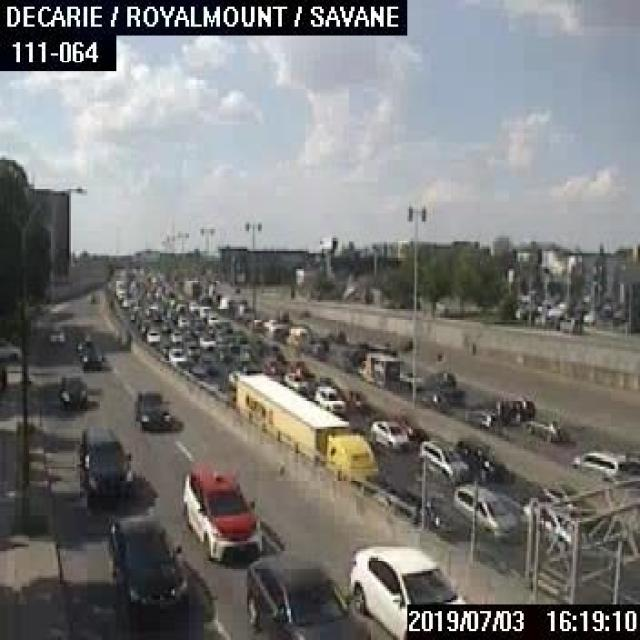vehicle: (235, 370, 383, 483), (245, 548, 369, 638), (350, 546, 469, 638), (105, 514, 188, 620), (180, 466, 262, 560), (76, 424, 129, 503), (452, 483, 518, 538), (417, 437, 465, 481), (455, 436, 504, 479), (568, 447, 628, 478), (133, 390, 174, 429), (360, 351, 399, 388), (368, 418, 408, 452), (312, 381, 344, 413), (57, 375, 87, 409), (493, 394, 532, 419), (522, 417, 566, 438), (76, 338, 102, 369), (464, 408, 500, 430), (414, 388, 447, 410), (281, 370, 309, 392), (423, 372, 453, 392), (284, 324, 308, 346), (166, 347, 186, 365), (181, 278, 199, 296), (227, 368, 246, 385), (304, 342, 324, 358), (48, 324, 64, 342), (198, 335, 215, 348), (145, 328, 159, 343), (115, 277, 125, 295), (170, 328, 181, 342), (176, 314, 189, 325), (198, 305, 210, 316), (187, 300, 198, 312), (175, 302, 185, 311), (120, 295, 128, 305), (87, 291, 95, 301)
